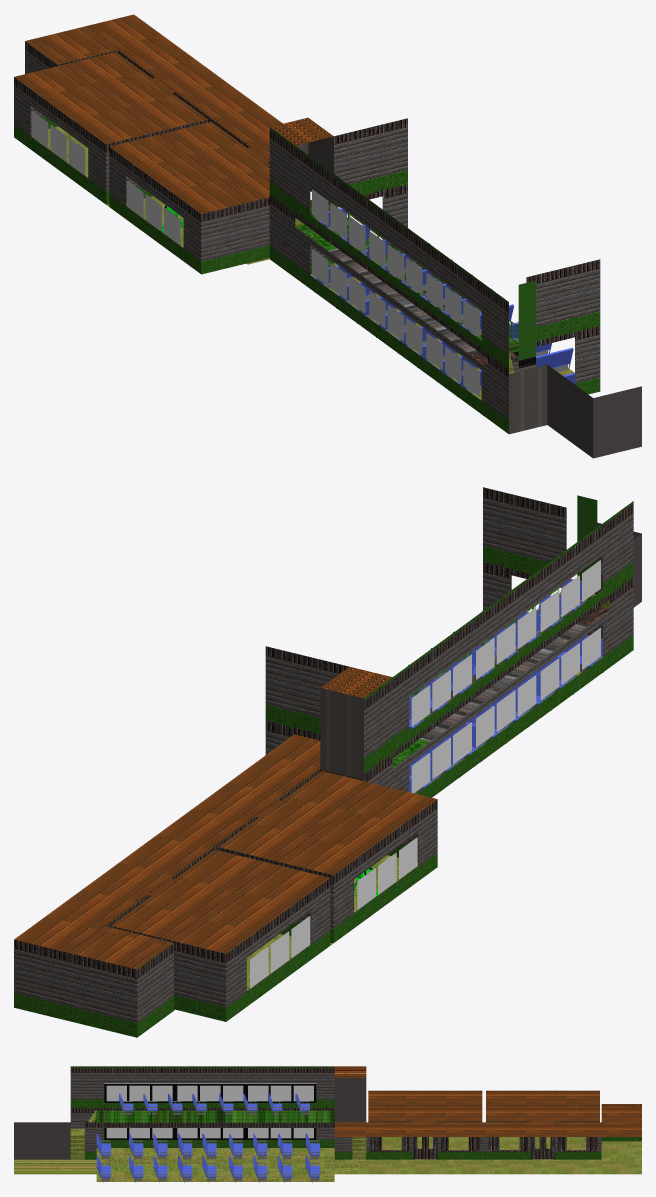
The model's file is Train Car.fbx.
3 renders of one model, top to bottom at view 1: azimuth 30°, elevation 25°; view 2: azimuth 150°, elevation 25°; view 3: azimuth 270°, elevation 25°, orthographic. The views are drawn at different scales.
Parts seen in each view (by area): view 1: Plane.059, Plane.003, Plane.013, Plane.049, Plane.055, Plane.051, Plane.057, Plane.053, Plane.047, Plane.060; view 2: Plane.059, Plane.003, Plane.013, Plane.055, Plane.049, Plane.057, Plane.053, Plane.051, Plane.047, Plane.060; view 3: Plane.059, Plane.060, Plane.003, Plane.010, Plane.034, Plane.045, Plane.009, Plane.053, Plane.055, Plane.057, Plane.001, Plane.051 (+30 smaller).
Part boxes in pixels (x1=…): Plane.059: x1=14, y1=41, x2=641, y2=458; Plane.003: x1=14, y1=14, x2=333, y2=213; Plane.013: x1=31, y1=111, x2=180, y2=244; Plane.049: x1=369, y1=291, x2=422, y2=355; Plane.055: x1=369, y1=231, x2=422, y2=295; Plane.051: x1=426, y1=333, x2=479, y2=397; Plane.057: x1=426, y1=272, x2=479, y2=336; Plane.053: x1=312, y1=189, x2=365, y2=253; Plane.047: x1=312, y1=249, x2=365, y2=313; Plane.060: x1=32, y1=126, x2=574, y2=399; Plane.059: x1=14, y1=487, x2=641, y2=1037; Plane.003: x1=14, y1=666, x2=437, y2=969; Plane.013: x1=250, y1=837, x2=417, y2=988; Plane.055: x1=476, y1=607, x2=536, y2=679; Plane.049: x1=476, y1=675, x2=536, y2=747; Plane.057: x1=540, y1=560, x2=600, y2=632; Plane.053: x1=411, y1=654, x2=471, y2=726; Plane.051: x1=540, y1=627, x2=600, y2=699; Plane.047: x1=411, y1=722, x2=471, y2=793; Plane.060: x1=246, y1=672, x2=581, y2=991; Plane.059: x1=14, y1=1066, x2=641, y2=1159; Plane.060: x1=14, y1=1137, x2=641, y2=1181; Plane.003: x1=334, y1=1066, x2=641, y2=1136; Plane.010: x1=366, y1=1121, x2=601, y2=1159; Plane.034: x1=96, y1=1110, x2=334, y2=1121; Plane.045: x1=96, y1=1111, x2=335, y2=1122; Plane.009: x1=370, y1=1137, x2=597, y2=1151; Plane.053: x1=248, y1=1085, x2=313, y2=1101; Plane.055: x1=177, y1=1085, x2=243, y2=1101; Plane.057: x1=106, y1=1085, x2=172, y2=1101; Plane.001: x1=70, y1=1110, x2=366, y2=1159; Plane.051: x1=106, y1=1128, x2=172, y2=1138.
Bounding box in the file's own units: 844 × 612 × 4102.
